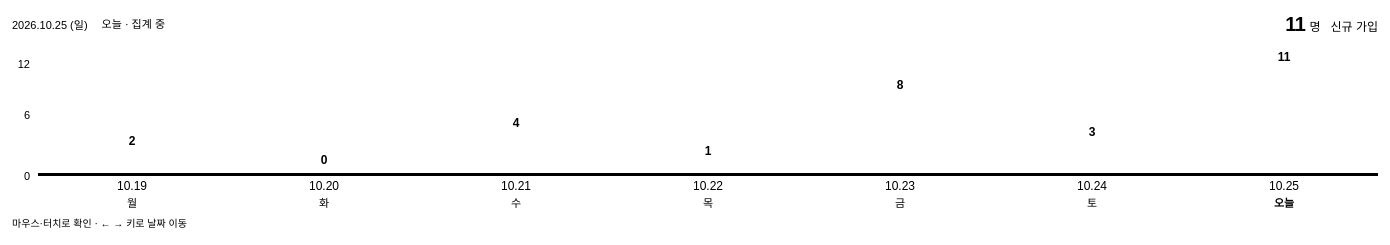
it: a tap or click selects a zero-count day without treating it as missing
The width and height of the screenshot is (1390, 245).
Click the button "0 10.20 화": (324, 126) [230,40,418,212]
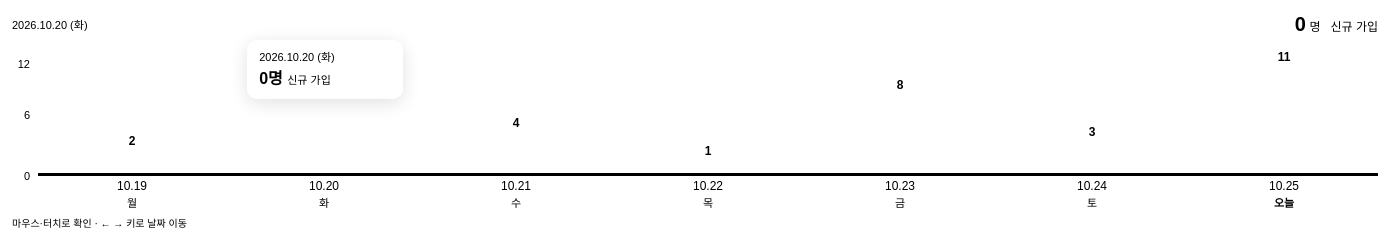
Check: the message shows "2026.10.20", box [12,19,67,31]
Check: the message shows "0명", box [12,12,1378,36]
